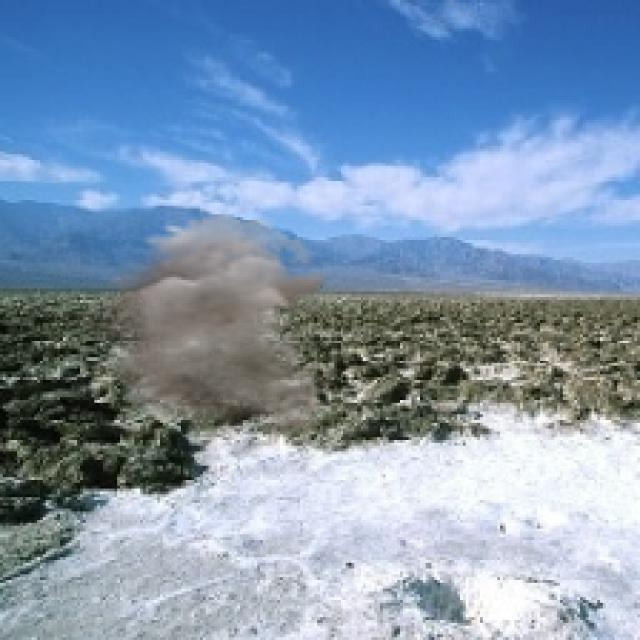smoke: (74, 215, 334, 434)
